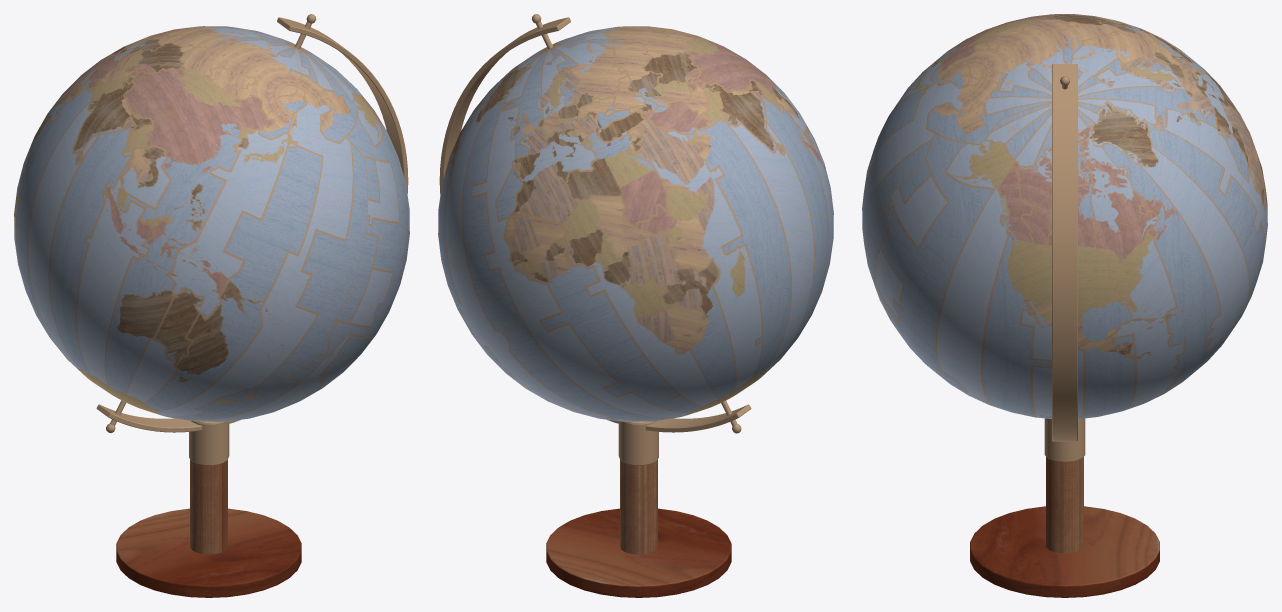
File: globe.glb
3 views of the same model, side by side, from view 1: azimuth 30°, elevation 25°; view 2: azimuth 150°, elevation 25°; view 3: azimuth 270°, elevation 25° (orthographic). The views are drawn at different scales.
Parts seen in each view (by area): view 1: Globe, Pied_globe; view 2: Globe, Pied_globe; view 3: Globe, Pied_globe.
Boxes of the visible parts, x1,y1,x2,y2 form: Globe: (14,26,409,421); Pied_globe: (96,14,408,597); Globe: (438,26,833,421); Pied_globe: (439,14,751,597); Globe: (862,14,1267,419); Pied_globe: (970,64,1159,597).
Bounding box in the file's own units: 15.2 × 20.86 × 14.4.
Materials: 2 (2 with a texture image).
